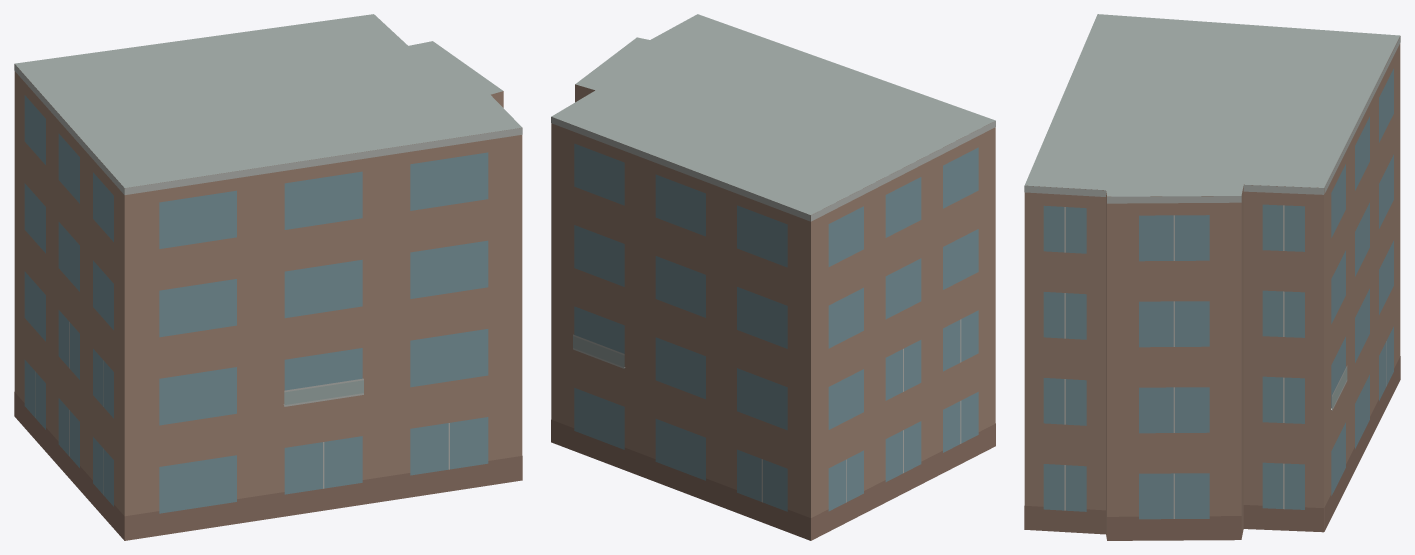
The model's file is survey-upis-32929412.glb.
3 views of the same model, side by side, from view 1: azimuth 30°, elevation 25°; view 2: azimuth 150°, elevation 25°; view 3: azimuth 270°, elevation 25° (orthographic). The views are drawn at different scales.
Visible parts, largest first — view 1: survey-upis-32929412.tmp; view 2: survey-upis-32929412.tmp; view 3: survey-upis-32929412.tmp.
Boxes of the visible parts, box(x1,y1,x2,y2) form: survey-upis-32929412.tmp: box(14, 14, 522, 540); survey-upis-32929412.tmp: box(551, 14, 995, 540); survey-upis-32929412.tmp: box(1024, 14, 1400, 540).
Size of the model in its own units: 13.9 by 12.2 by 12.09.
